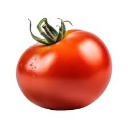tomato: (18, 29, 113, 110)
